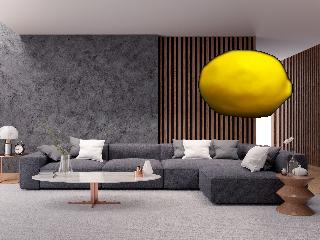lemon: (200, 51, 293, 117)
